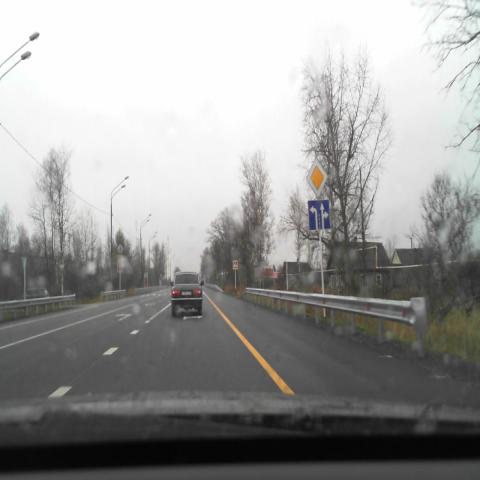2_1: (306, 157, 328, 198)
5_15_2_2: (308, 199, 330, 230)
